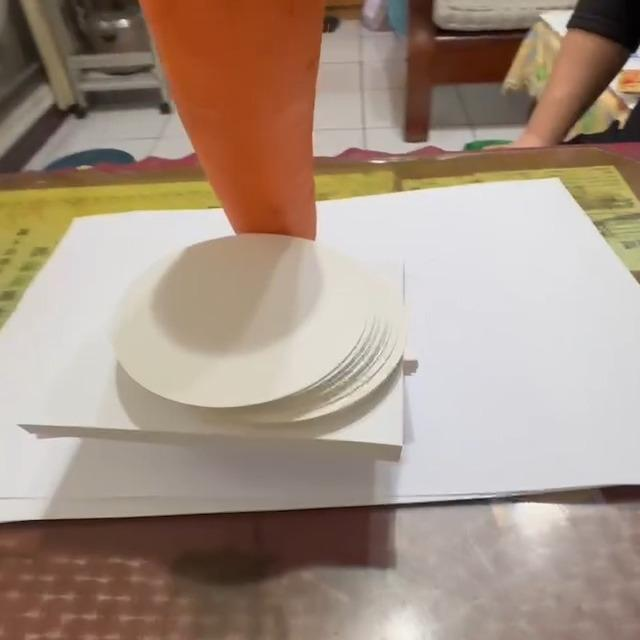carrot: (125, 1, 329, 240)
